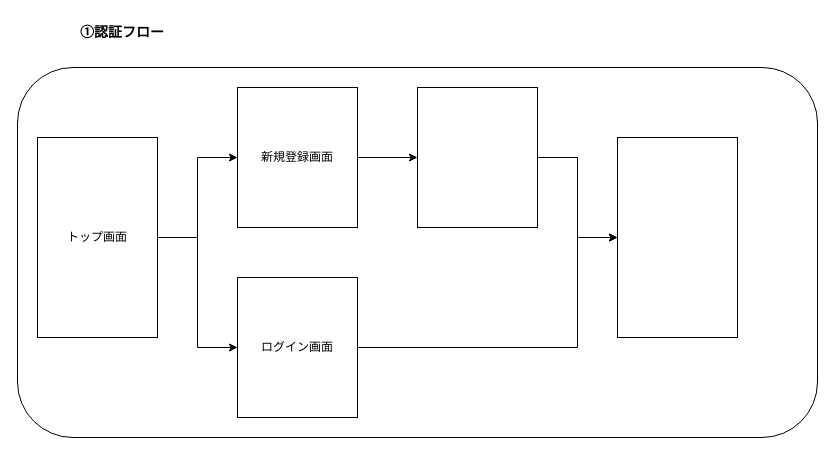
Some shapes in this 835 by 455 pixel diagram are drawn without their labels. Here are the shapes that lost their labels. From the top down, the box of each, then its label:
(416, 86, 538, 228): メール認証画面
(616, 136, 738, 338): ホーム画面
